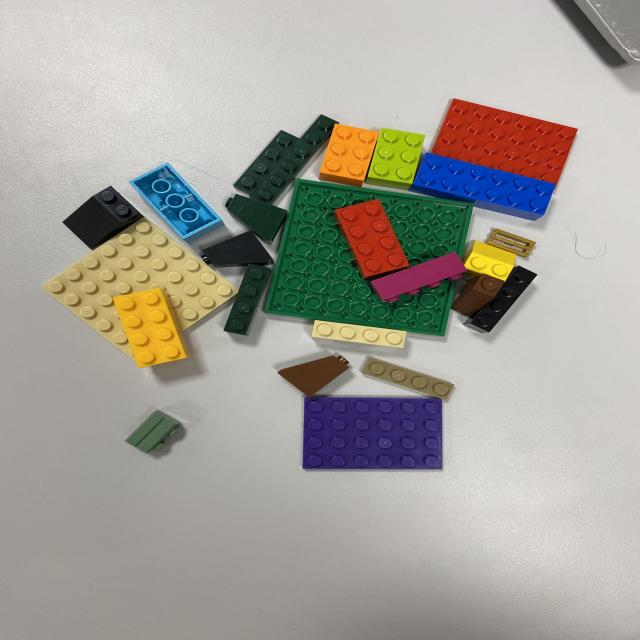C4x2x1: (334, 201, 408, 276), (117, 288, 188, 364)
